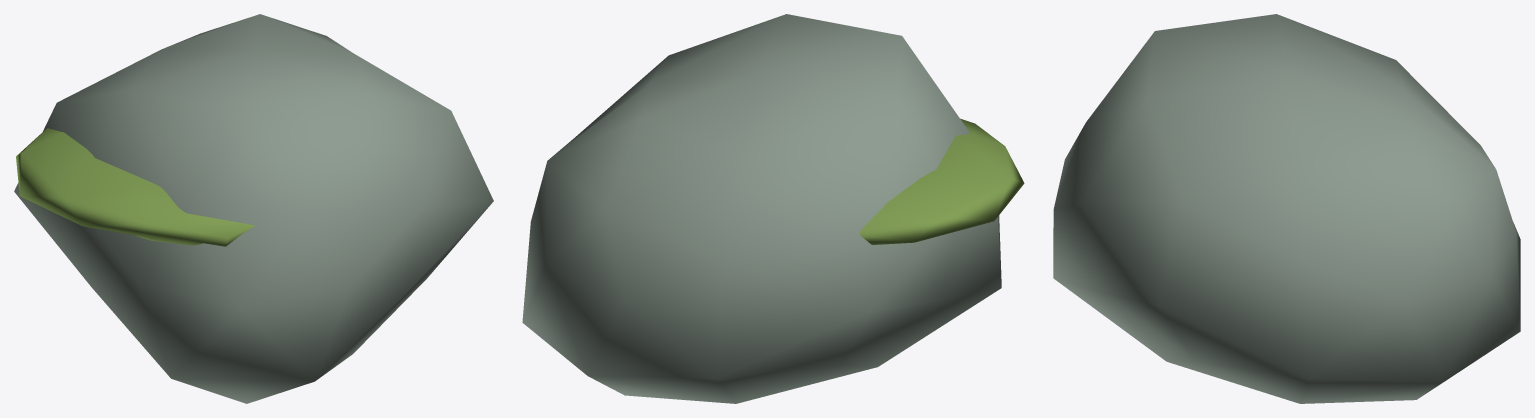
The model's file is moss-rock.glb.
3 renders of one model, left to right at view 1: azimuth 30°, elevation 25°; view 2: azimuth 150°, elevation 25°; view 3: azimuth 270°, elevation 25°, orthographic.
Parts seen in each view (by area): view 1: near; view 2: near; view 3: near.
Boxes of the visible parts, left/top/right/bottom form: near: left=14, top=14, right=493, bottom=403; near: left=522, top=14, right=1024, bottom=403; near: left=1053, top=14, right=1520, bottom=403.
Size of the model in its own units: 2.48 by 1.58 by 2.24.
